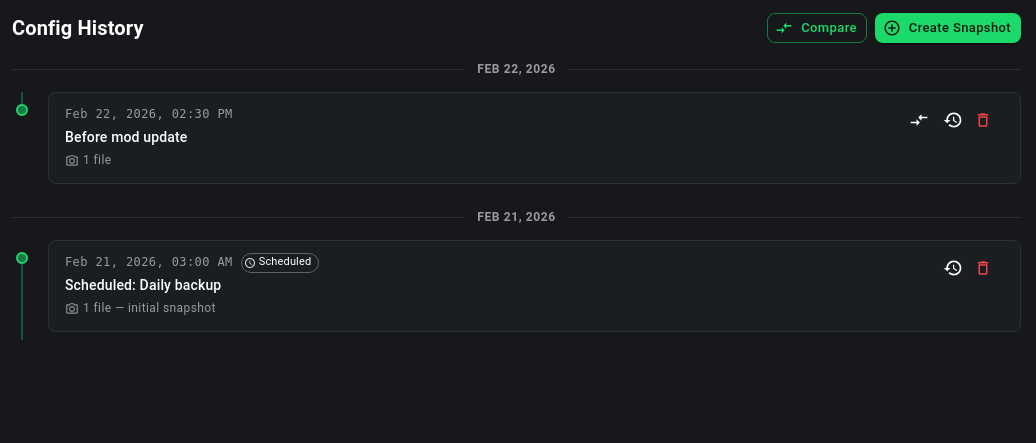
Test: ServerConfigHistoryTab › enters compare mode when Compare button clicked
Click the button "Compare": (817, 28) 767,13 -> 867,43
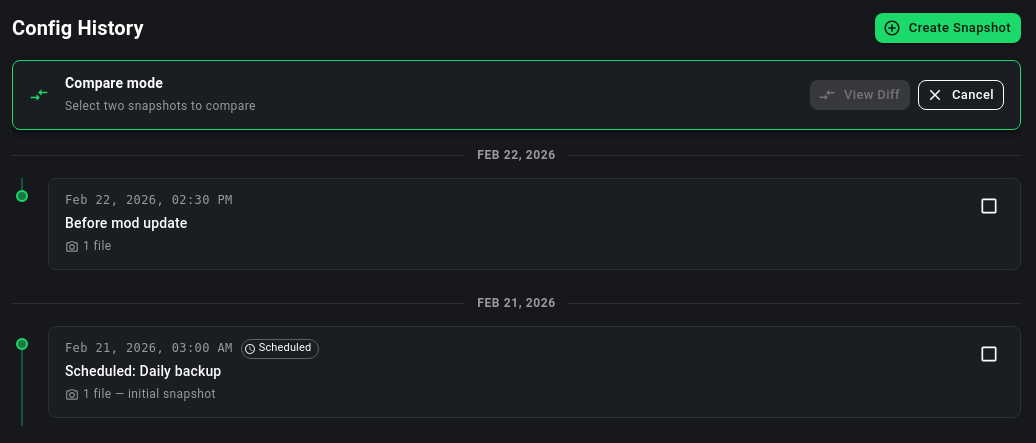
Expected: the text "Compare mode" is shown, 65,75 -> 163,91
